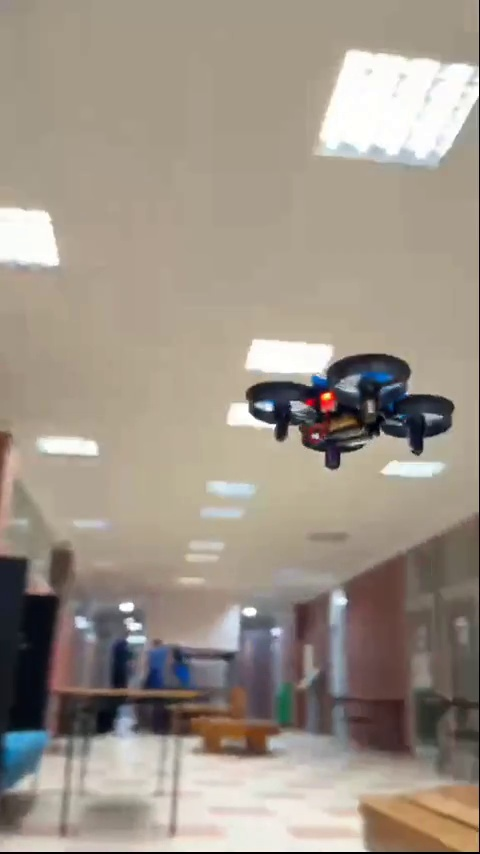drone: (250, 351, 456, 476)
no vest: (144, 630, 171, 686), (108, 634, 133, 686)
